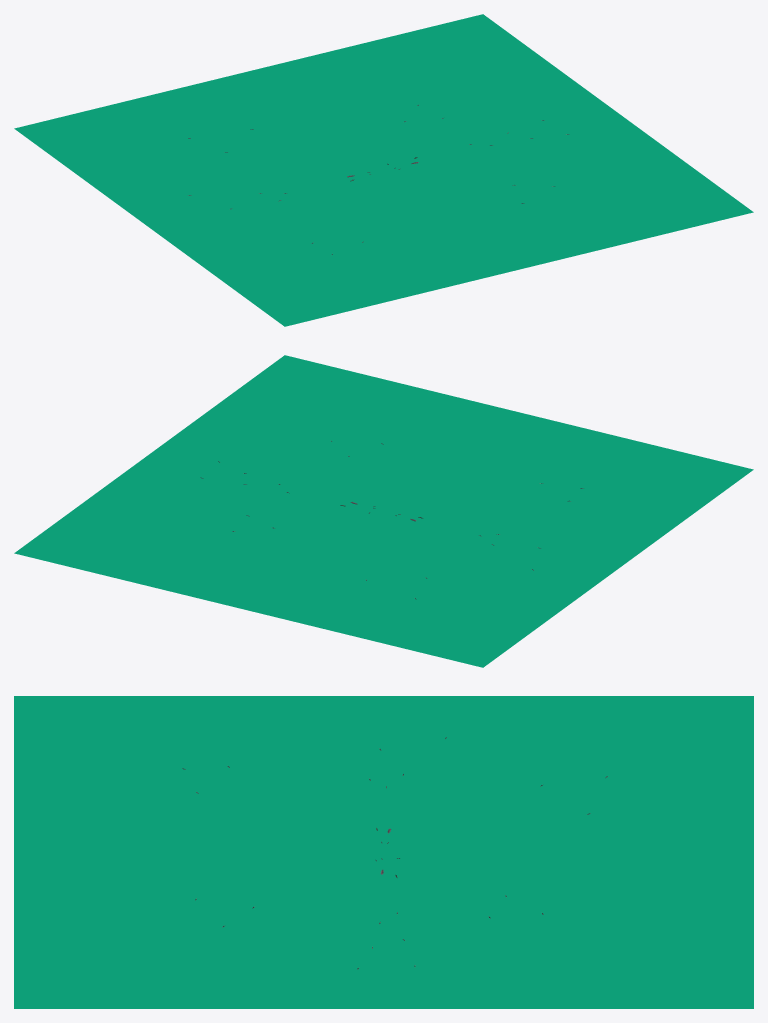
Rendered from houses2.glb.
3 renders of one model, top to bottom at view 1: azimuth 30°, elevation 25°; view 2: azimuth 150°, elevation 25°; view 3: azimuth 270°, elevation 25°, orthographic. The views are drawn at different scales.
Visible parts, largest first — view 1: Water_Layer; view 2: Water_Layer; view 3: Water_Layer.
Part boxes in pixels (x1=…): Water_Layer: x1=14, y1=14, x2=753, y2=326; Water_Layer: x1=14, y1=355, x2=753, y2=667; Water_Layer: x1=14, y1=696, x2=753, y2=1008.
Size of what is drawn, in the model's own units: 12000 by 38.81 by 12000.
8 materials, 7 textured.
